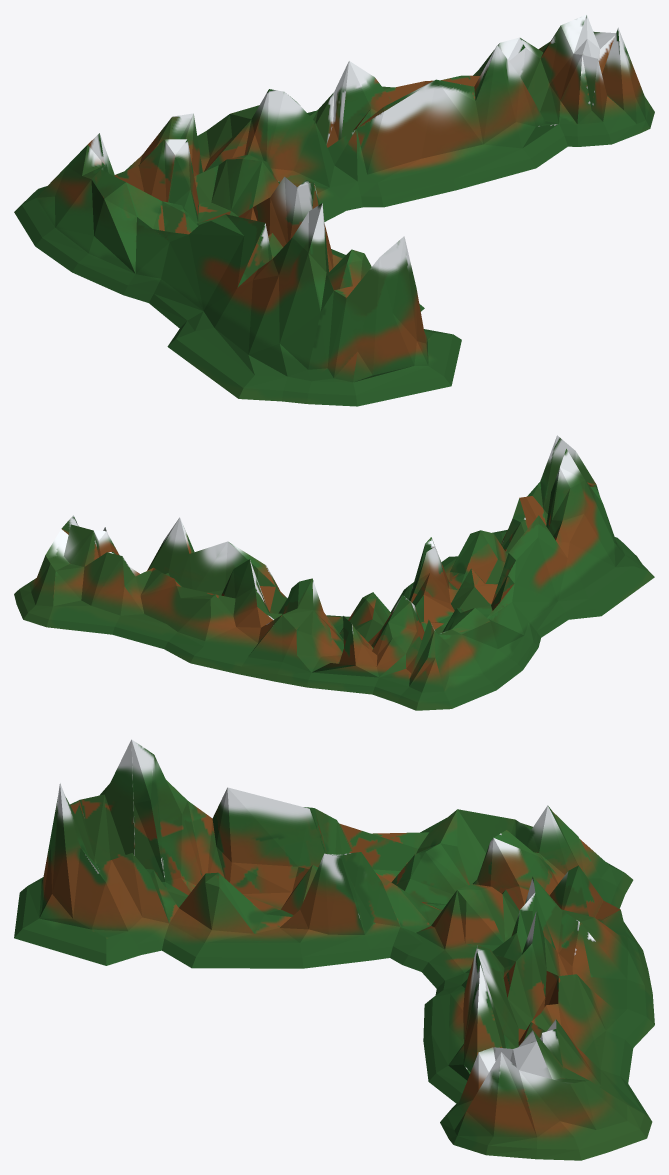
File: Green_mountain.glb
The picture shows the model from 3 angles, top to bottom: view 1: azimuth 30°, elevation 25°; view 2: azimuth 150°, elevation 25°; view 3: azimuth 270°, elevation 25°; orthographic projection. The views are drawn at different scales.
Visible parts, largest first — view 1: huitugou_2194_12.001; view 2: huitugou_2194_12.001; view 3: huitugou_2194_12.001.
Part boxes in pixels (left/top/right/bottom): huitugou_2194_12.001: left=14, top=14, right=654, bottom=406; huitugou_2194_12.001: left=14, top=435, right=654, bottom=710; huitugou_2194_12.001: left=14, top=739, right=654, bottom=1160.
Size of the model in its own units: 107 by 26.34 by 93.83.
1 material, 1 textured.
